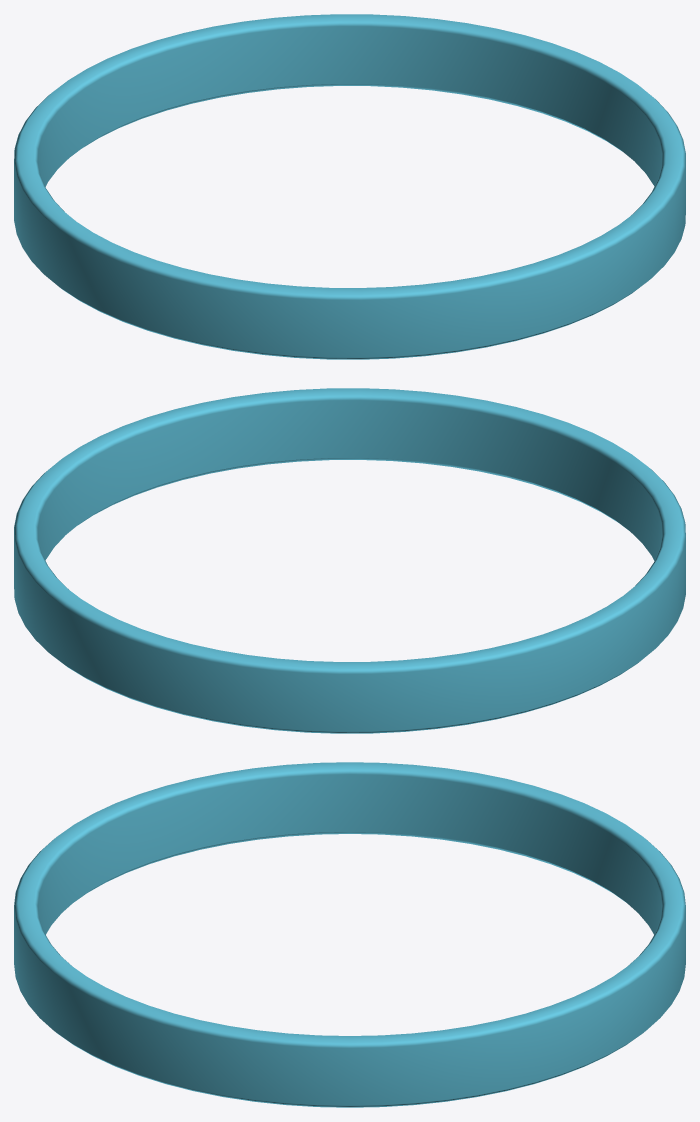
The picture shows the model from 3 angles, top to bottom: view 1: azimuth 30°, elevation 25°; view 2: azimuth 150°, elevation 25°; view 3: azimuth 270°, elevation 25°; orthographic projection.
Parts seen in each view (by area): view 1: seal_body; view 2: seal_body; view 3: seal_body.
Part boxes in pixels (left/top/right/bottom): seal_body: left=14, top=14, right=685, bottom=359; seal_body: left=14, top=388, right=685, bottom=733; seal_body: left=14, top=762, right=685, bottom=1107.
Bounding box in the file's own units: 0.0889 × 0.00952 × 0.0889.
